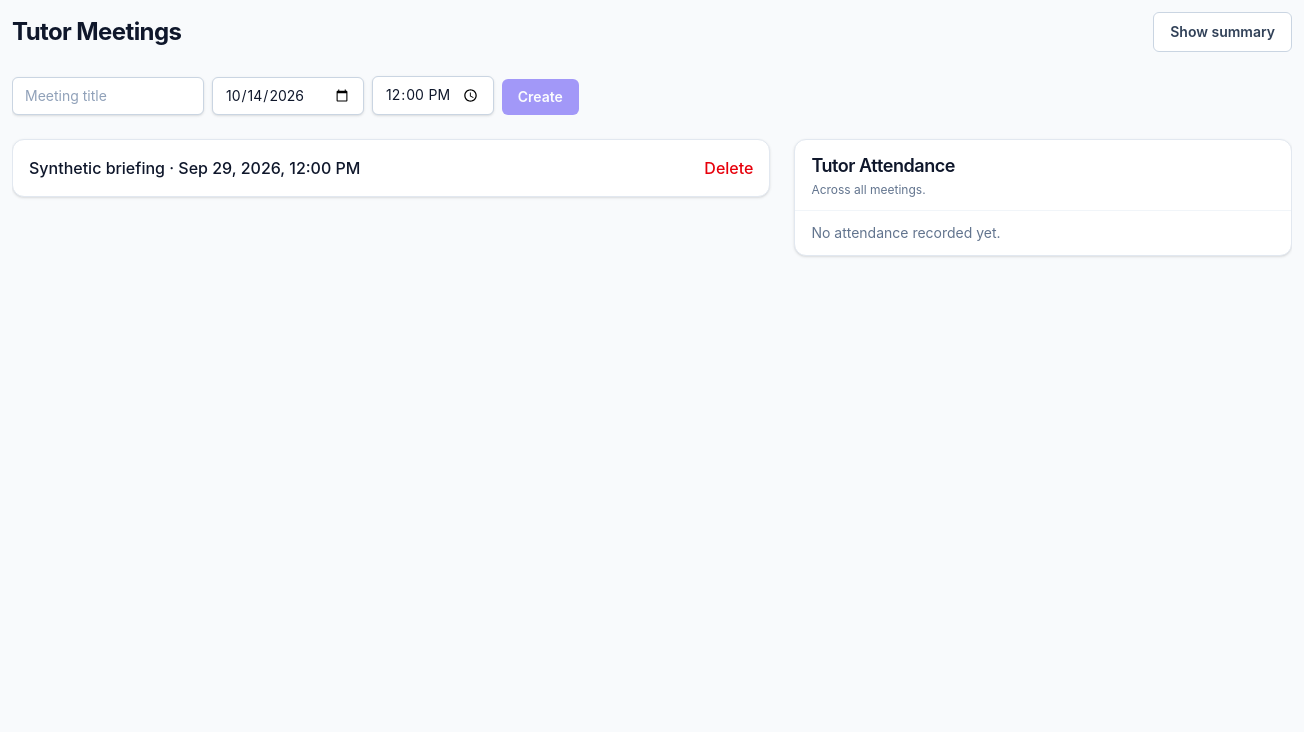
it: keeps all past tutors in the summary independently of the editor visibility toggle
Click the button "Synthetic briefing · Sep 29, 2026, 12:00 PM": (361, 168) [29, 152, 692, 184]
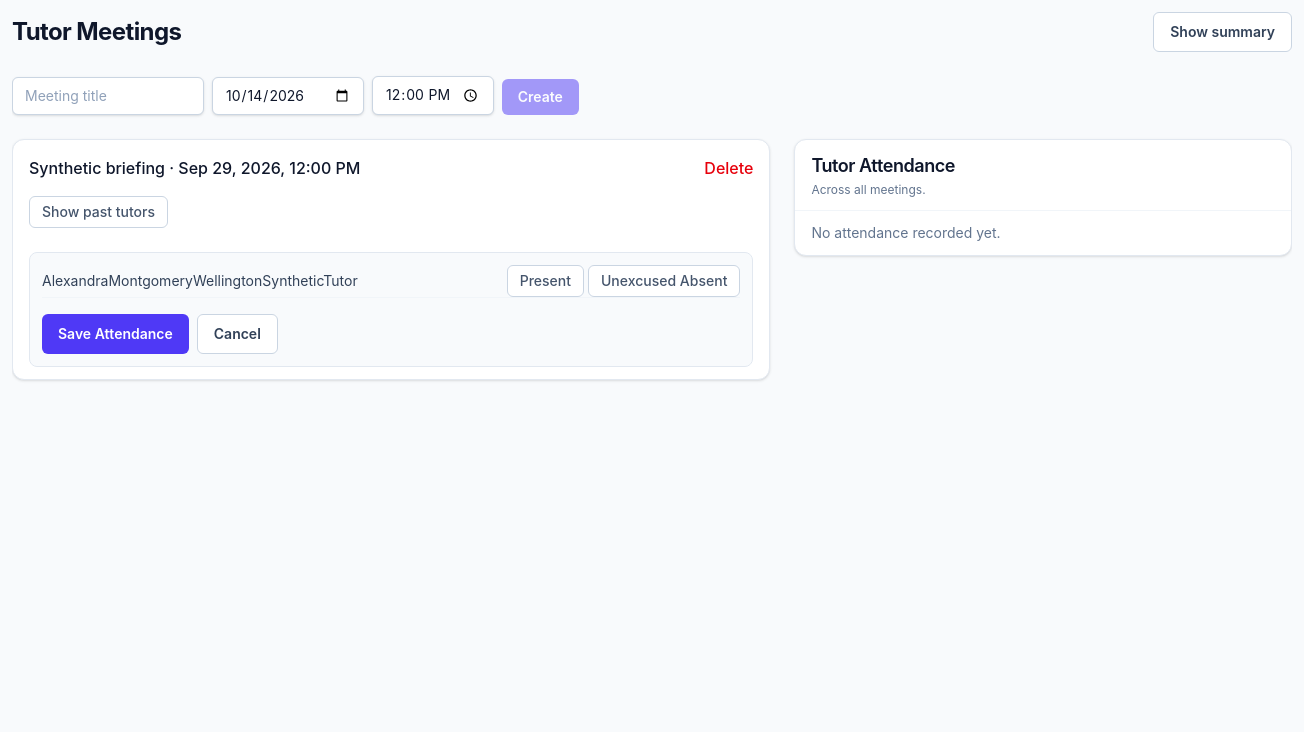
Click the button "Show summary": (1223, 32) [1153, 12, 1292, 52]
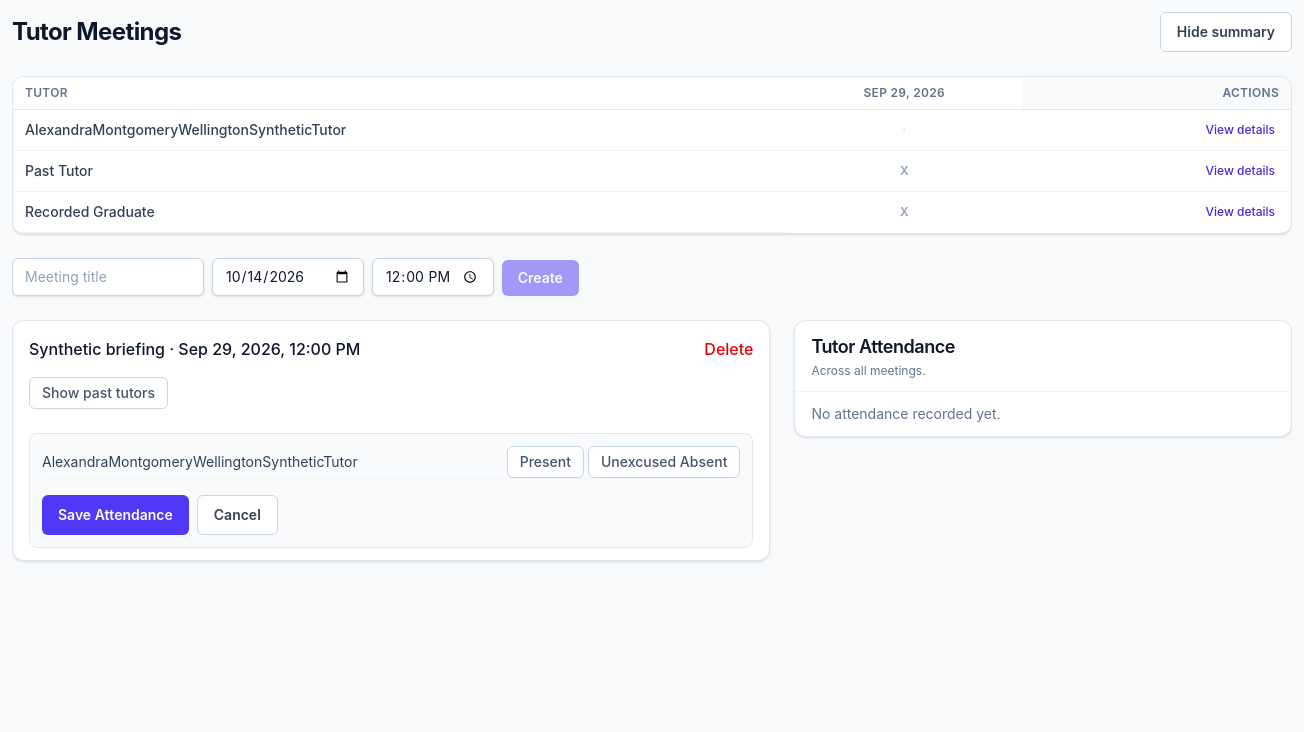
Now the column heading "Past Tutor" is shown, box [13, 150, 786, 192]
Now the column heading "Recorded Graduate" is shown, box [13, 192, 786, 232]
